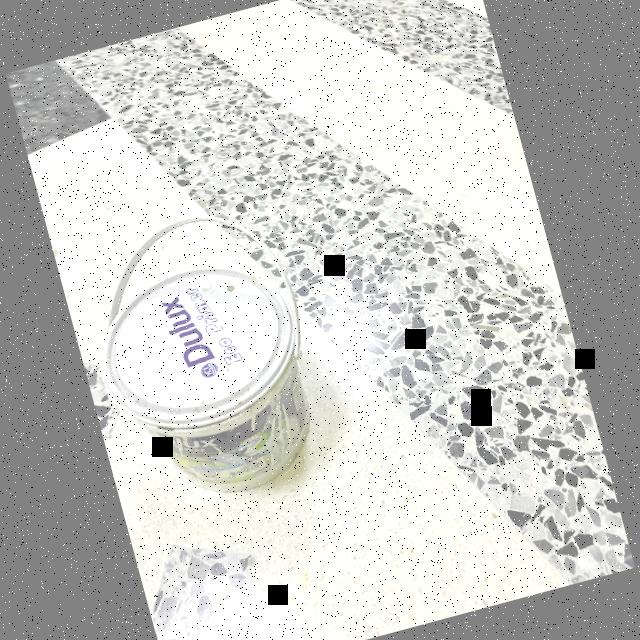paint_bucket: (82, 245, 338, 520)
